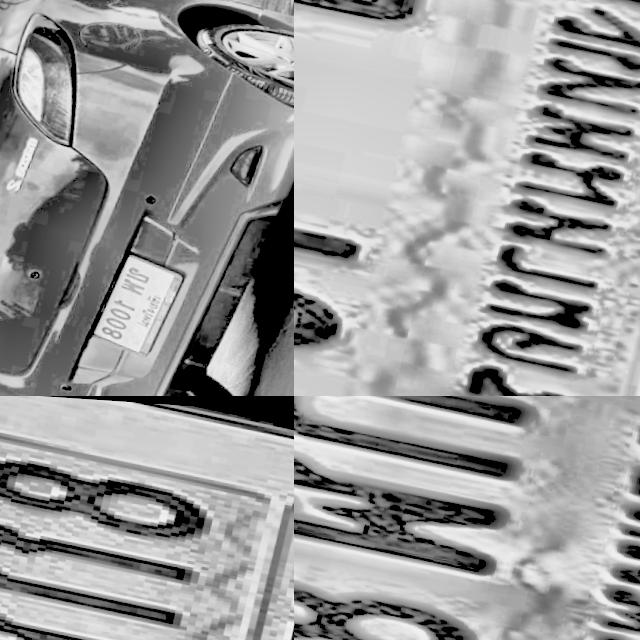license-plate: (294, 0, 640, 396), (294, 396, 640, 640), (0, 396, 294, 640), (94, 239, 203, 359)
